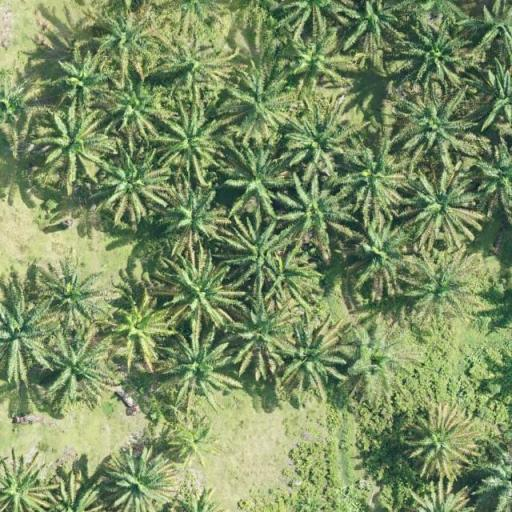Ganoderma: (120, 306, 162, 348), (176, 426, 212, 460)
